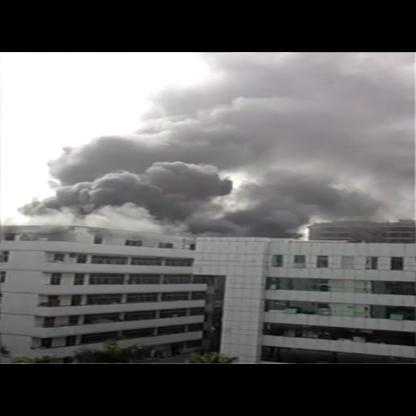smoke: (14, 182, 318, 238), (298, 93, 406, 222), (50, 134, 270, 176), (143, 81, 330, 125), (201, 51, 412, 85)
